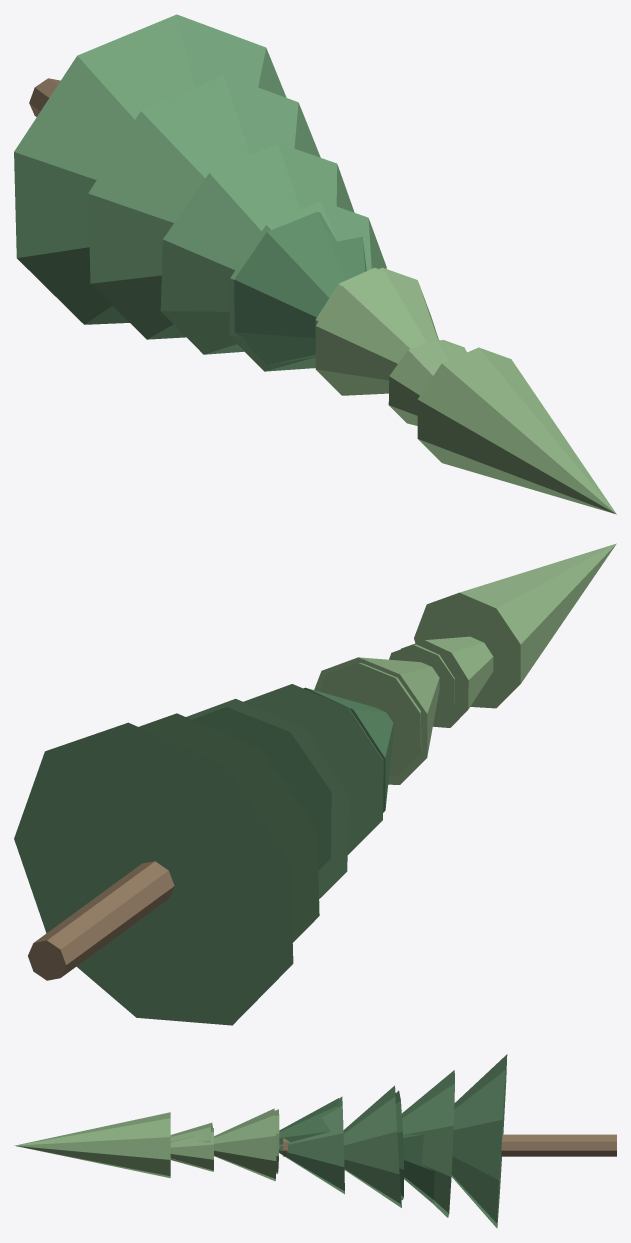
File: Midgard_Nordic_Spruce_B.glb
The picture shows the model from 3 angles, top to bottom: view 1: azimuth 30°, elevation 25°; view 2: azimuth 150°, elevation 25°; view 3: azimuth 270°, elevation 25°; orthographic projection. The views are drawn at different scales.
Parts seen in each view (by area): view 1: world; view 2: world; view 3: world.
Boxes of the visible parts, left/top/right/bottom form: world: left=14, top=14, right=616, bottom=514; world: left=14, top=543, right=616, bottom=1025; world: left=14, top=1054, right=616, bottom=1228.
Size of the model in its own units: 2.21 by 2.24 by 7.7.
